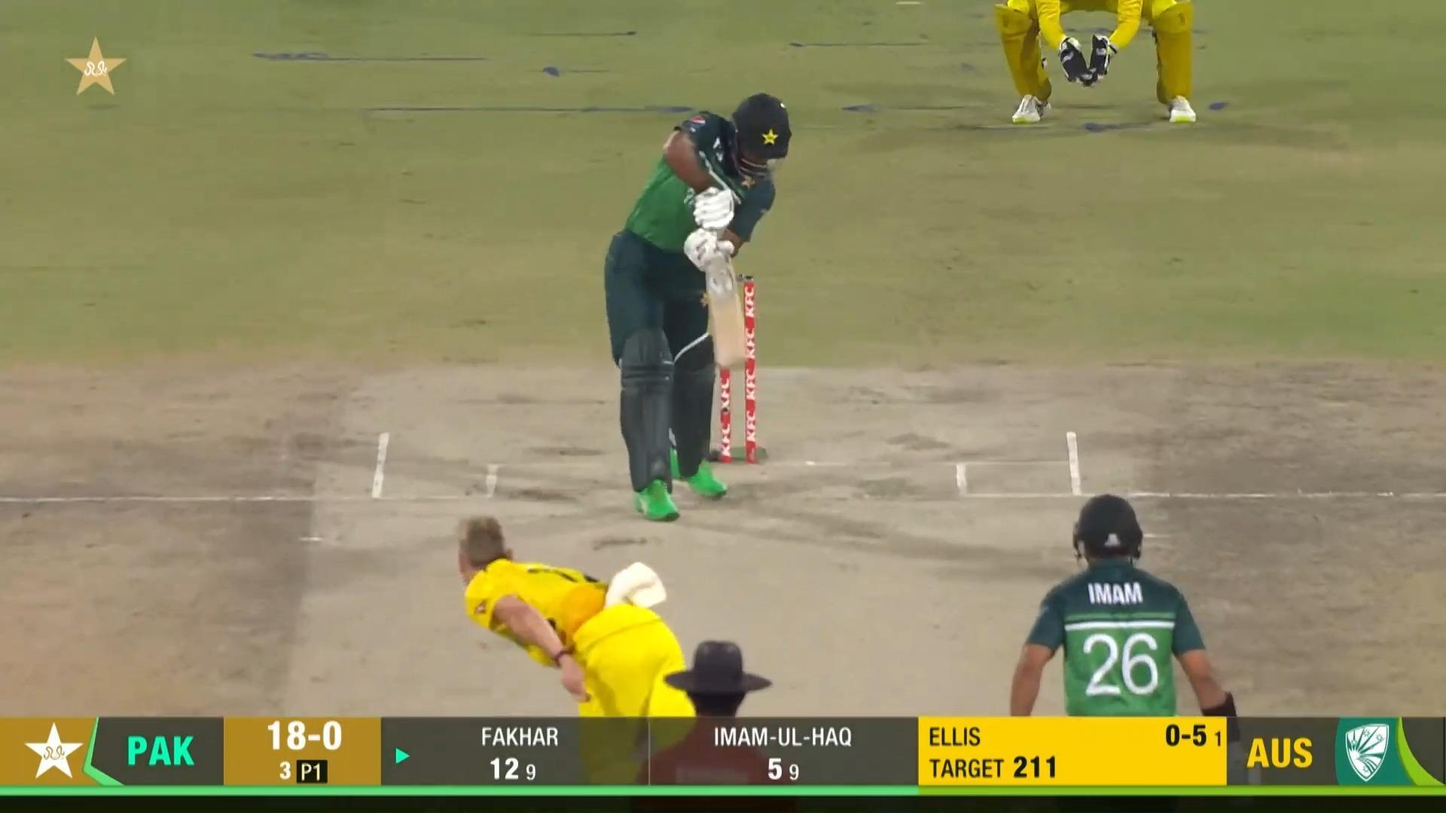BM 1: (603, 92, 794, 523)
BO: (458, 514, 697, 717)
